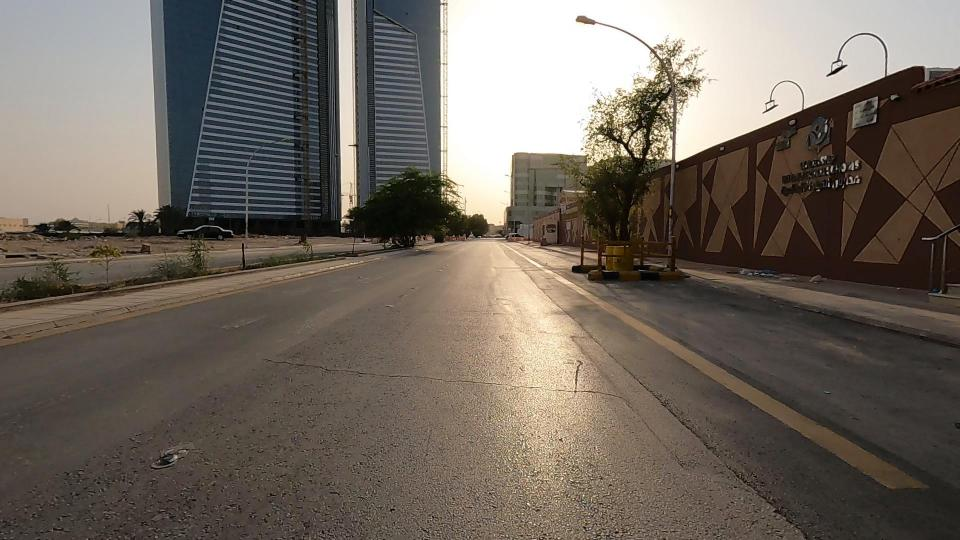GARBAGE: (72, 208, 194, 281), (752, 253, 923, 304), (695, 232, 812, 300), (0, 214, 111, 280), (580, 220, 652, 293)
POTHOLES: (654, 389, 805, 525), (598, 344, 718, 450)
